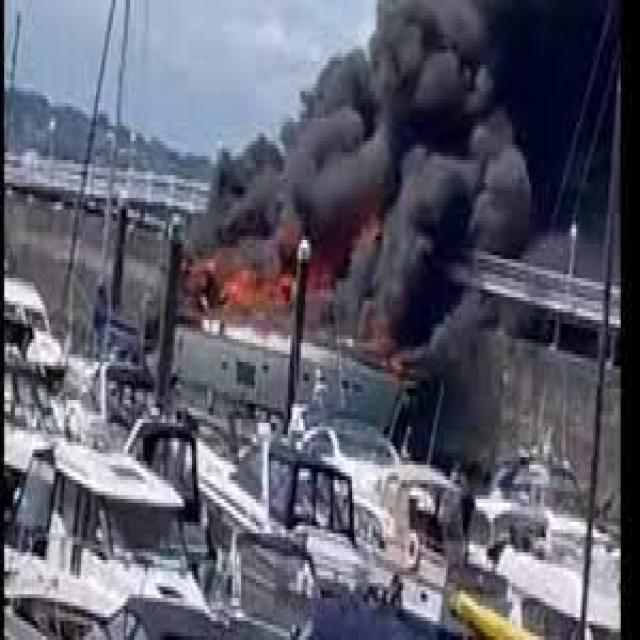fire: (188, 248, 292, 324)
smoke: (179, 4, 538, 366)
